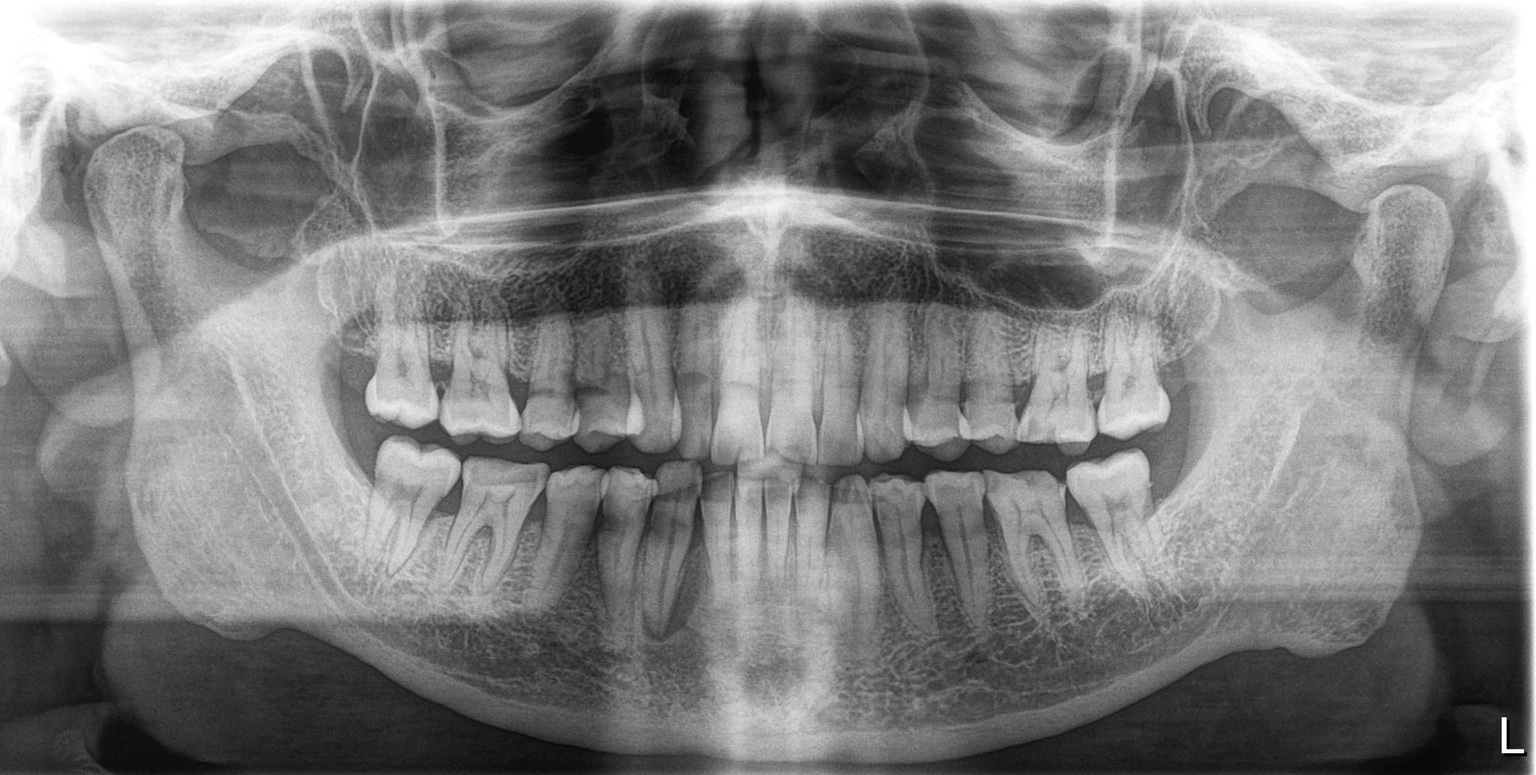Dental Caries: (564, 377, 628, 409), (1088, 371, 1111, 413), (1003, 375, 1028, 412)
Missing Tooth: (1159, 431, 1204, 520)
Periapical Lesion: (634, 536, 745, 652)
